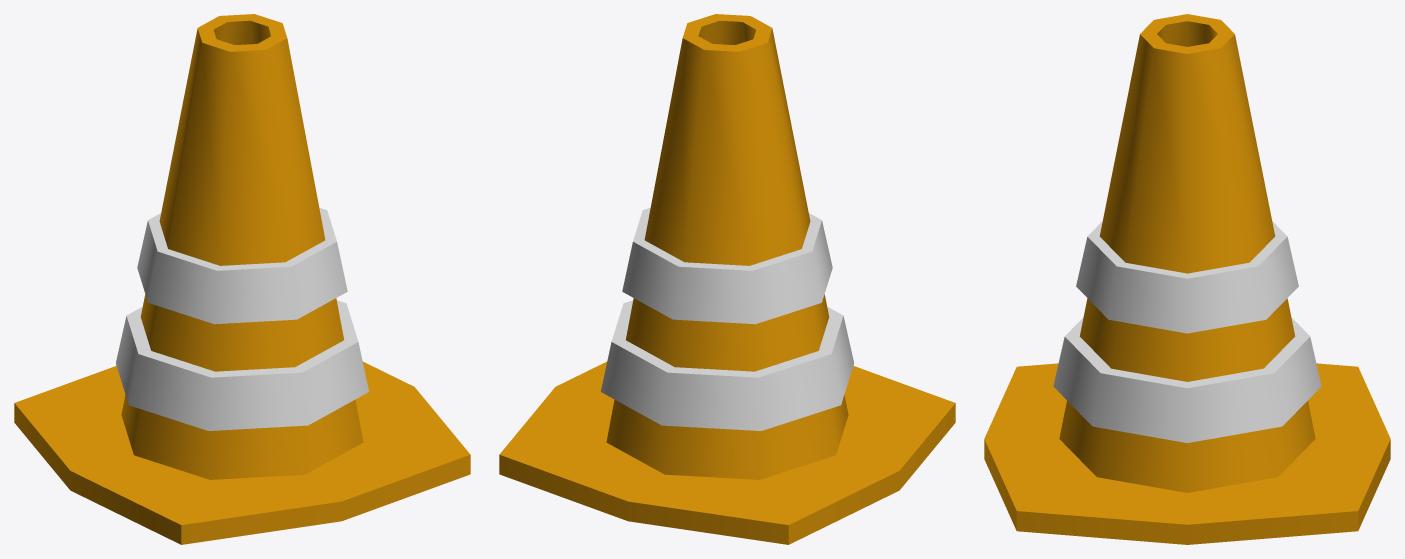
File: buildingCone.fbx
3 views of the same model, side by side, from view 1: azimuth 30°, elevation 25°; view 2: azimuth 150°, elevation 25°; view 3: azimuth 270°, elevation 25° (orthographic). The views are drawn at different scales.
Parts seen in each view (by area): view 1: buildingCone; view 2: buildingCone; view 3: buildingCone.
Boxes of the visible parts, x1,y1,x2,y2 form: buildingCone: [14, 14, 470, 544]; buildingCone: [499, 14, 955, 544]; buildingCone: [984, 14, 1390, 544].
Bounding box in the file's own units: 90.99 × 105 × 90.99.
